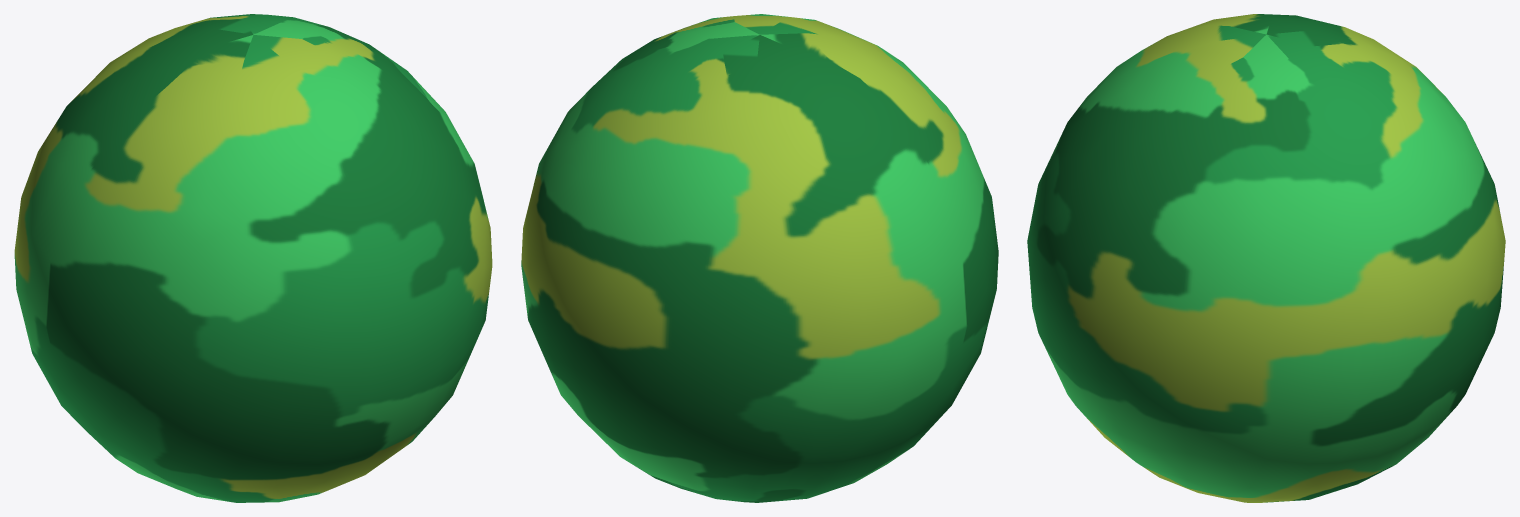
Rendered from ball.glb.
The picture shows the model from 3 angles, left to right: view 1: azimuth 30°, elevation 25°; view 2: azimuth 150°, elevation 25°; view 3: azimuth 270°, elevation 25°; orthographic projection.
Visible parts, largest first — view 1: ball; view 2: ball; view 3: ball.
Part boxes in pixels (left/top/right/bottom): ball: left=14, top=14, right=492, bottom=502; ball: left=521, top=14, right=998, bottom=502; ball: left=1027, top=14, right=1505, bottom=502.
Bounding box in the file's own units: 0.2464 × 0.2546 × 0.2464.
Materials: 1 (1 with a texture image).
